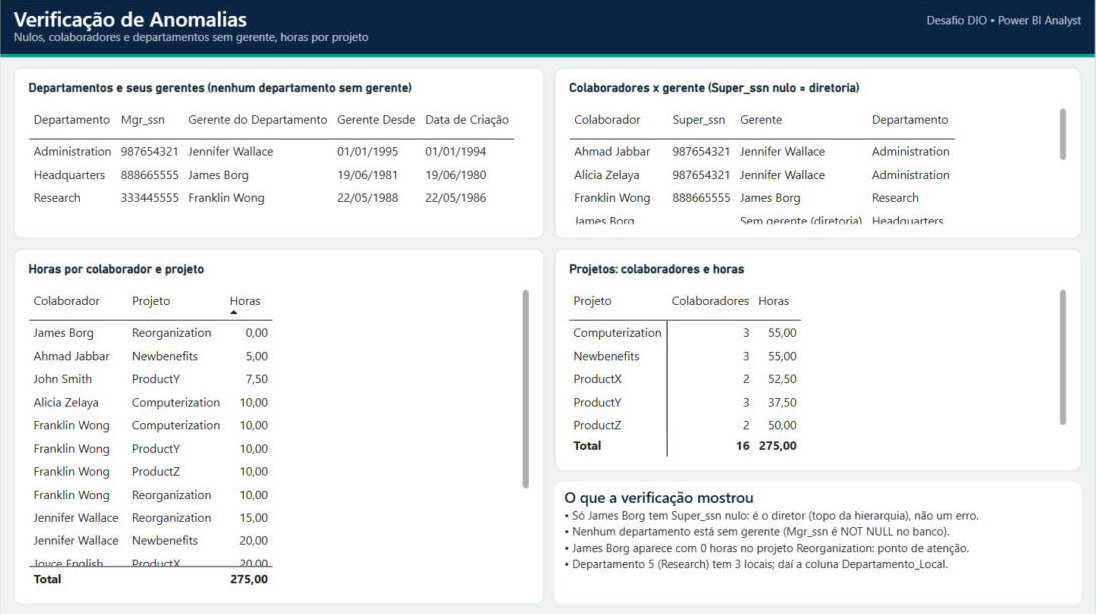

This screenshot's page, from the dashboard's own definition file:
{"tool":"powerbi","page":{"name":"Verificações","canvas":[1280,720],"ordinal":1},"visuals":[{"type":"shape","box":[0,0,1280,64],"z":100},{"type":"shape","box":[0,64,1280,4],"z":200},{"type":"textbox","box":[16,6,900,36],"z":300},{"type":"textbox","box":[16,34,900,28],"z":400},{"type":"textbox","box":[940,14,324,40],"z":500},{"type":"tableEx","title":"Departamentos e seus gerentes (nenhum departamento sem gerente)","fields":{"Values":["Departamentos.Departamento","Departamentos.Mgr_ssn","Departamentos.Gerente do Departamento","Departamentos.Gerente Desde","Departamentos.Data de Criação"]},"box":[16,80,620,200],"z":600},{"type":"tableEx","title":"Colaboradores x gerente (Super_ssn nulo = diretoria)","fields":{"Values":["Colaboradores.Colaborador","Colaboradores.Super_ssn","Colaboradores.Gerente","Colaboradores.Departamento"]},"box":[648,80,616,200],"z":700},{"type":"tableEx","title":"Horas por colaborador e projeto","fields":{"Values":["Horas Trabalhadas.Colaborador","Horas Trabalhadas.Projeto","Sum(Horas Trabalhadas.Horas)"]},"box":[16,292,620,416],"z":800},{"type":"pivotTable","title":"Projetos: colaboradores e horas","fields":{"Rows":["Projetos.Projeto"],"Values":["Sum(Projetos.Qtd. Colaboradores)","Sum(Projetos.Total de Horas)"]},"box":[648,292,616,260],"z":900},{"type":"shape","box":[648,564,616,144],"z":1000},{"type":"textbox","box":[660,570,596,134],"z":1100}]}

Visuals, with their boxes in screenshot pixels (x1, y1, x2, y2), scaled from the page's 1280x720 canvas onto the 1096x614 screenshot:
shape: l=0, t=0, r=1095, b=55
shape: l=0, t=55, r=1095, b=58
textbox: l=14, t=5, r=784, b=36
textbox: l=14, t=29, r=784, b=53
textbox: l=805, t=12, r=1082, b=46
"Departamentos e seus gerentes (nenhum departamento sem gerente)" tableEx: l=14, t=68, r=545, b=239
"Colaboradores x gerente (Super_ssn nulo = diretoria)" tableEx: l=555, t=68, r=1082, b=239
"Horas por colaborador e projeto" tableEx: l=14, t=249, r=545, b=604
"Projetos: colaboradores e horas" pivotTable: l=555, t=249, r=1082, b=471
shape: l=555, t=481, r=1082, b=604
textbox: l=565, t=486, r=1075, b=600
